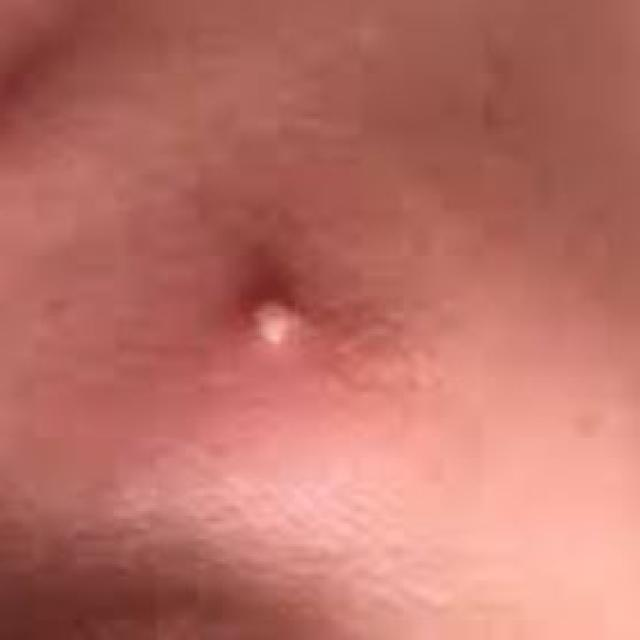pustule: (206, 260, 317, 372)
